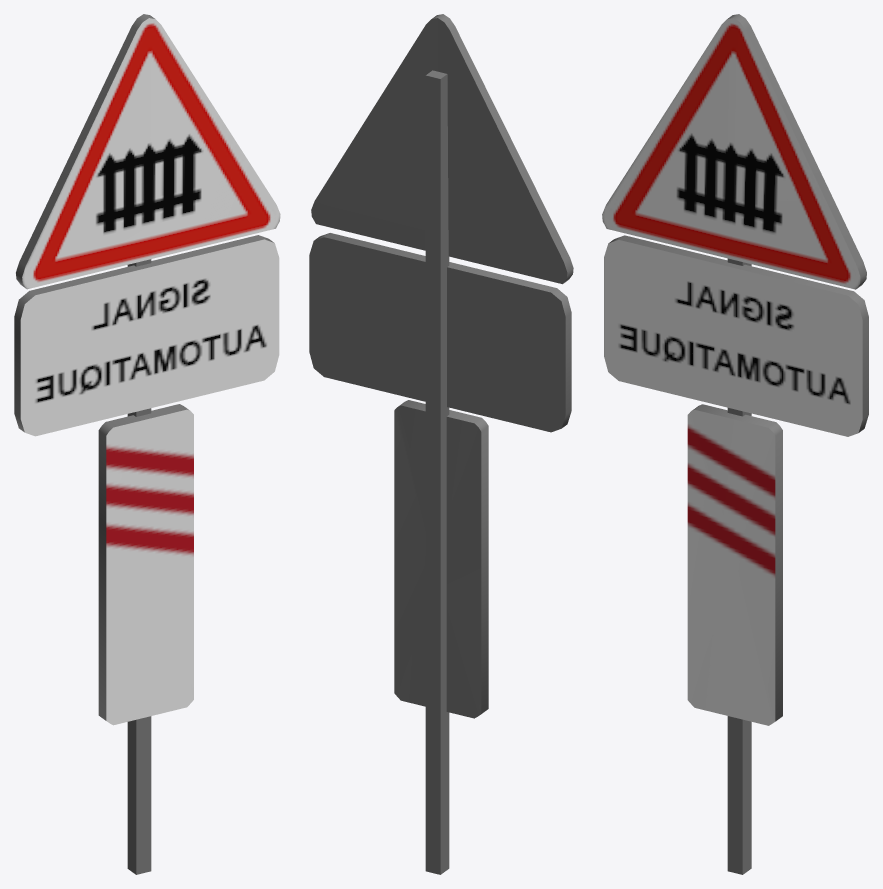
The model's file is LevelCrossing.obj.
The picture shows the model from 3 angles, left to right: view 1: azimuth 30°, elevation 25°; view 2: azimuth 150°, elevation 25°; view 3: azimuth 330°, elevation 25°; orthographic projection.
Visible parts, largest first — view 1: Sign_LevelCrossing_III; view 2: Sign_LevelCrossing_III; view 3: Sign_LevelCrossing_III.
Part boxes in pixels (x1,y1,x2,y2): Sign_LevelCrossing_III: (14,14,280,874); Sign_LevelCrossing_III: (309,14,573,874); Sign_LevelCrossing_III: (602,14,868,874).
Size of the model in its own units: 1.38 by 4.37 by 0.1343.
Materials: 1 (1 with a texture image).
